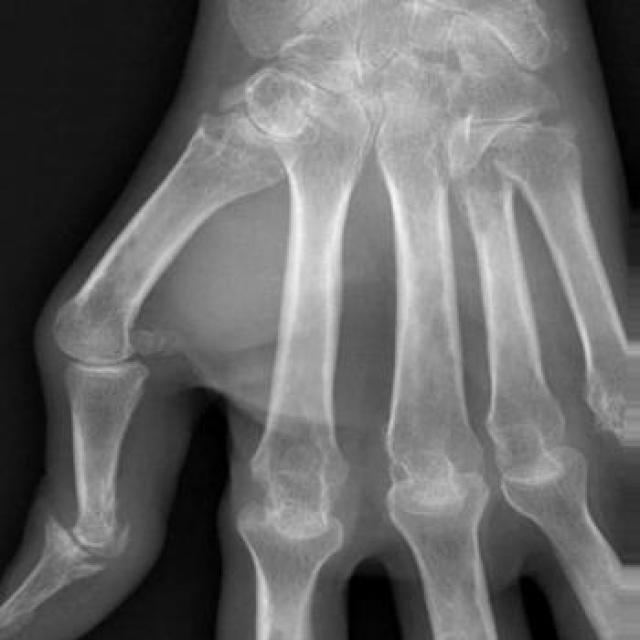Fracture: (35, 506, 133, 570)
